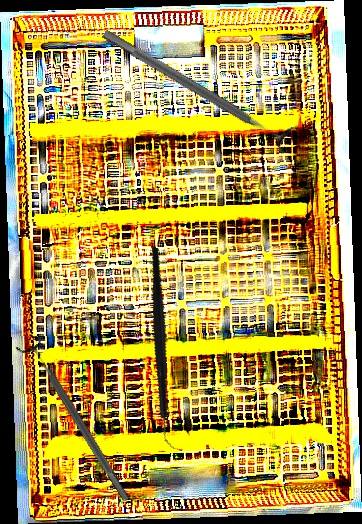Chopper: (96, 246, 233, 450)
Fixation Ring: (95, 18, 301, 156), (14, 333, 140, 508)
